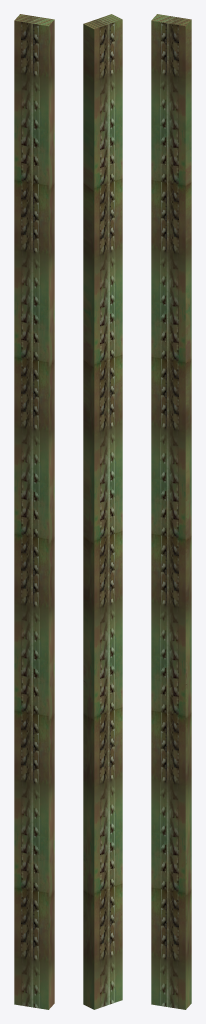
File: GH_1_ColC_1.gltf
3 renders of one model, left to right at view 1: azimuth 90°, elevation 25°; view 2: azimuth 150°, elevation 25°; view 3: azimuth 270°, elevation 25°, orthographic.
Visible parts, largest first — view 1: GH_1_ColC_1; view 2: GH_1_ColC_1; view 3: GH_1_ColC_1.
Boxes of the visible parts, x1=… form: GH_1_ColC_1: x1=14, y1=14, x2=54, y2=1009; GH_1_ColC_1: x1=83, y1=14, x2=122, y2=1009; GH_1_ColC_1: x1=151, y1=14, x2=191, y2=1009.
Size of the model in its own units: 0.1836 by 6.85 by 0.2567.
Materials: 1 (1 with a texture image).
